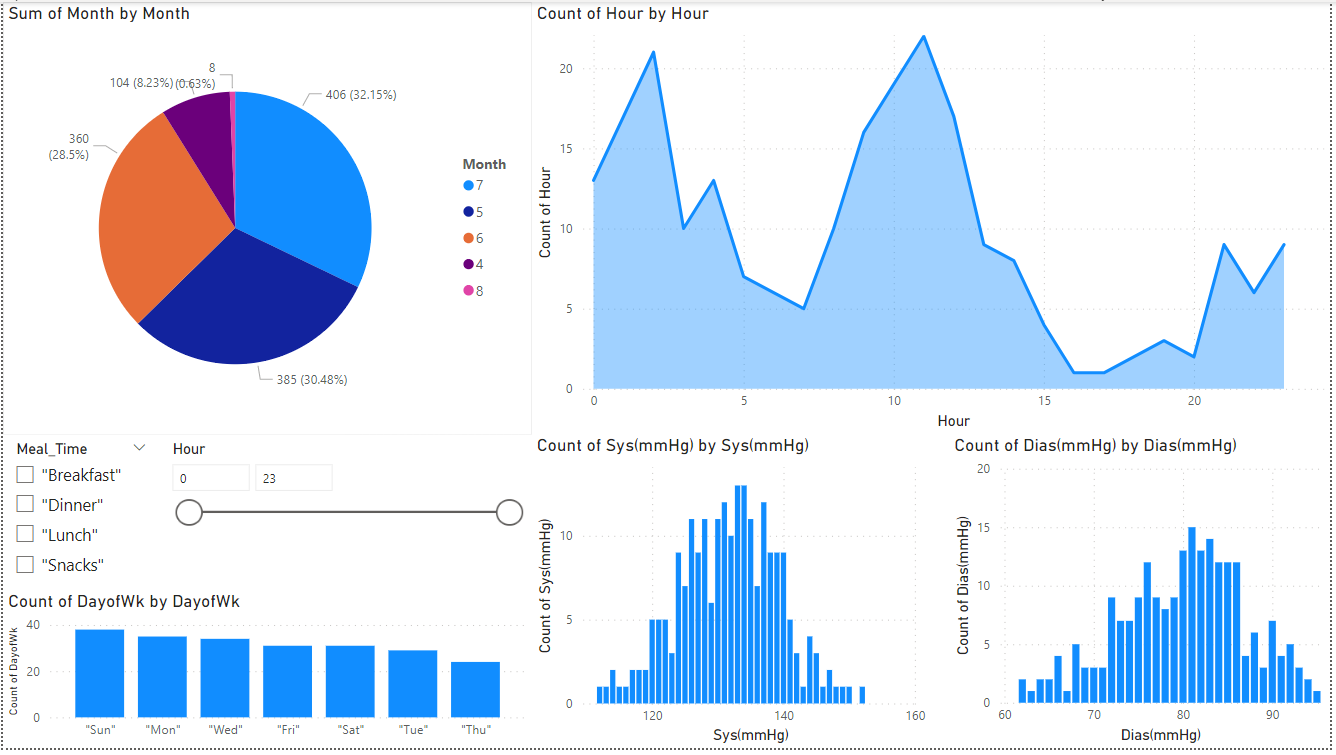

The dashboard page shown, as its layout file describes it:
{"tool":"powerbi","page":{"name":"Page 1","canvas":[1280,720],"ordinal":1},"visuals":[{"type":"pieChart","fields":{"Y":["Sum(Blood.Month)"],"Category":["Blood.Month"]},"box":[0,0,510.1,417.2],"z":0},{"type":"areaChart","fields":{"Category":["Blood.Hour"],"Y":["CountNonNull(Blood.Hour)"]},"box":[510.1,0,769.9,417.2],"z":1000},{"type":"slicer","fields":{"Values":["Blood.Meal_Time"]},"box":[0,417.2,150.7,150.7],"z":2000},{"type":"columnChart","fields":{"Category":["Blood.DayofWk"],"Y":["CountNonNull(Blood.DayofWk)"]},"box":[0,568,510.1,152.1],"z":3000},{"type":"clusteredColumnChart","fields":{"Y":["CountNonNull(Blood.Dias(mmHg))"],"Category":["Blood.Dias(mmHg)"]},"box":[912.6,417.2,367.4,302.8],"z":4000},{"type":"clusteredColumnChart","fields":{"Y":["CountNonNull(Blood.Sys(mmHg))"],"Category":["Blood.Sys(mmHg)"]},"box":[509.6,417.2,385.9,303],"z":5000},{"type":"slicer","fields":{"Values":["Blood.Hour"]},"box":[150.8,417.2,358.7,150.8],"z":6000}]}

Visuals, with their boxes in screenshot pixels (x1, y1, x2, y2), scaled from the page's 1280x720 canvas onto the 1336x755 screenshot:
pieChart - Sum(Blood.Month) x Blood.Month: l=0, t=0, r=532, b=437
areaChart - Blood.Hour x CountNonNull(Blood.Hour): l=532, t=0, r=1335, b=437
slicer - Blood.Meal_Time: l=0, t=437, r=157, b=596
columnChart - Blood.DayofWk x CountNonNull(Blood.DayofWk): l=0, t=596, r=532, b=754
clusteredColumnChart - CountNonNull(Blood.Dias(mmHg)) x Blood.Dias(mmHg): l=953, t=437, r=1335, b=754
clusteredColumnChart - CountNonNull(Blood.Sys(mmHg)) x Blood.Sys(mmHg): l=532, t=437, r=935, b=754
slicer - Blood.Hour: l=157, t=437, r=532, b=596
